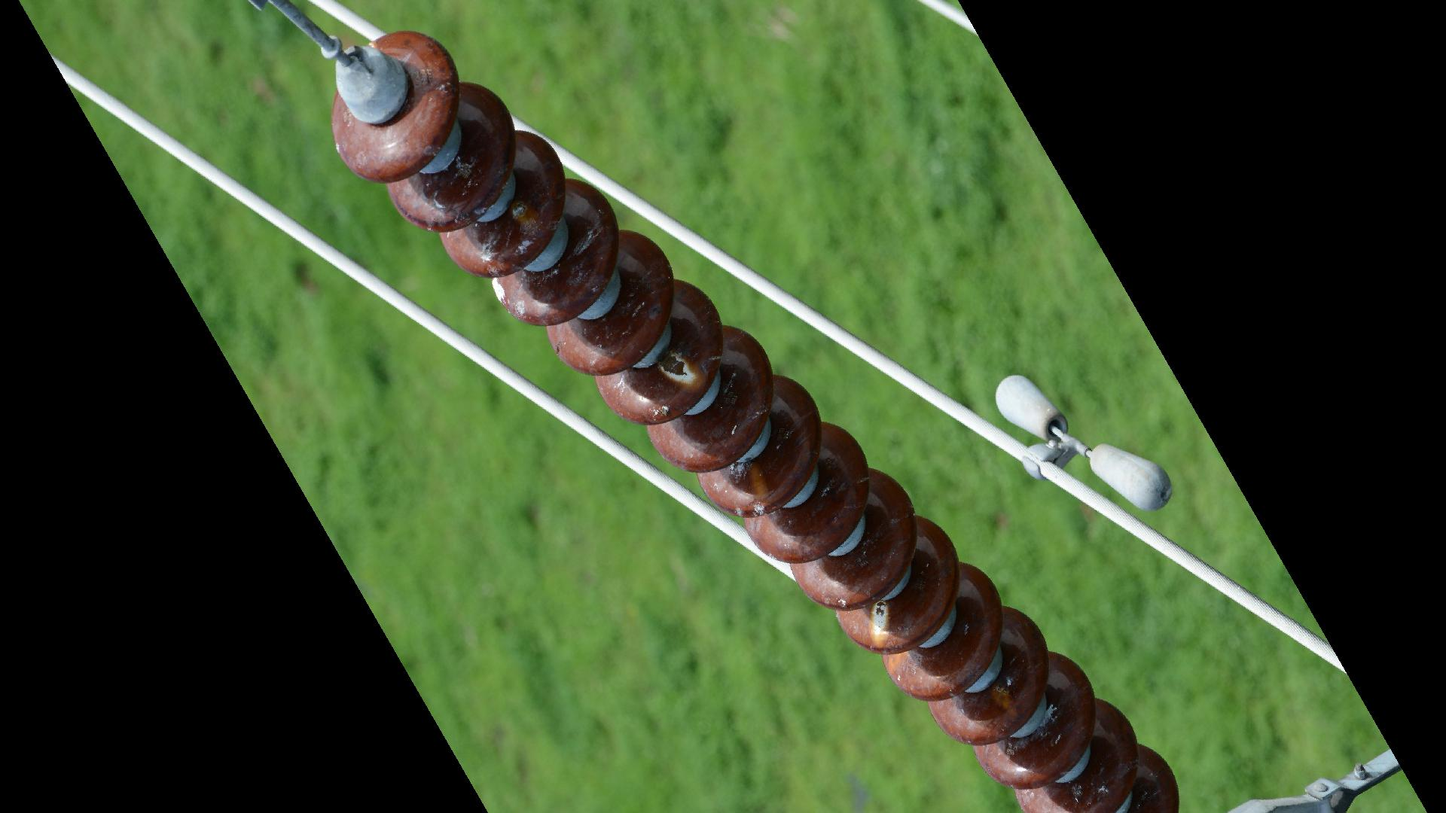insulator: (322, 28, 1188, 813)
insulator_flashover: (654, 349, 700, 388), (865, 598, 895, 650)
